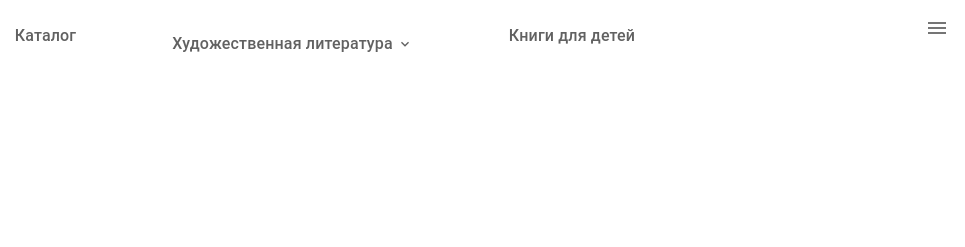
Test case: NavigationMenu › Мобильное поведение › закрывает меню при выборе пункта
The image size is (965, 247).
What coordinates should you click on to do the following:
click the button named "открыть меню"
I would click on:
 (937, 28)
Its box is 917,8 -> 957,48.
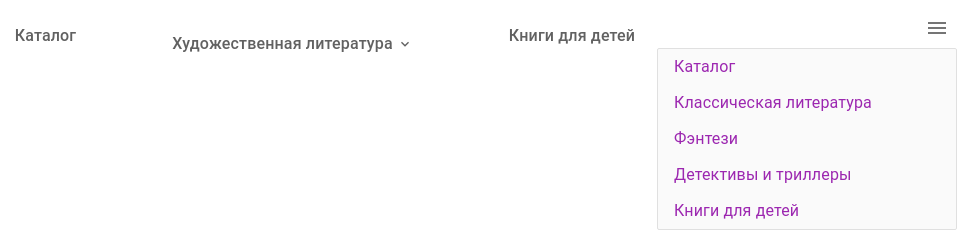
What coordinates should you click on to do the following:
click the menu item "Классическая литература"
I would click on:
 (773, 102)
Its box is 674,93 -> 872,112.
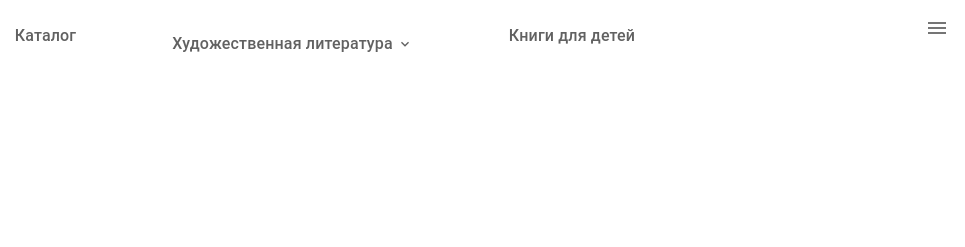
Now the menu item "Классическая литература" is gone
